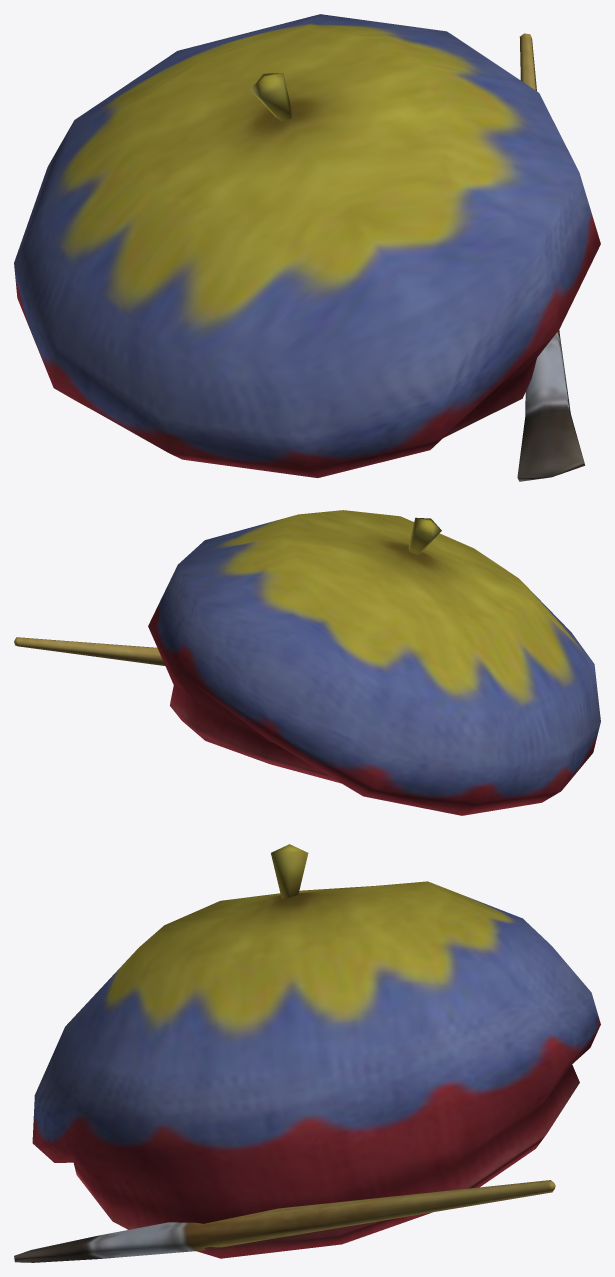
File: artistHat.glb
3 renders of one model, top to bottom at view 1: azimuth 30°, elevation 25°; view 2: azimuth 150°, elevation 25°; view 3: azimuth 270°, elevation 25°, orthographic. The views are drawn at different scales.
Visible parts, largest first — view 1: artistHat; view 2: artistHat; view 3: artistHat.
Boxes of the visible parts, left/top/right/bottom form: artistHat: left=14, top=14, right=600, bottom=481; artistHat: left=14, top=510, right=600, bottom=815; artistHat: left=14, top=844, right=600, bottom=1262.
Size of the model in its own units: 0.5808 by 0.3295 by 0.5041.
1 material, 1 textured.
